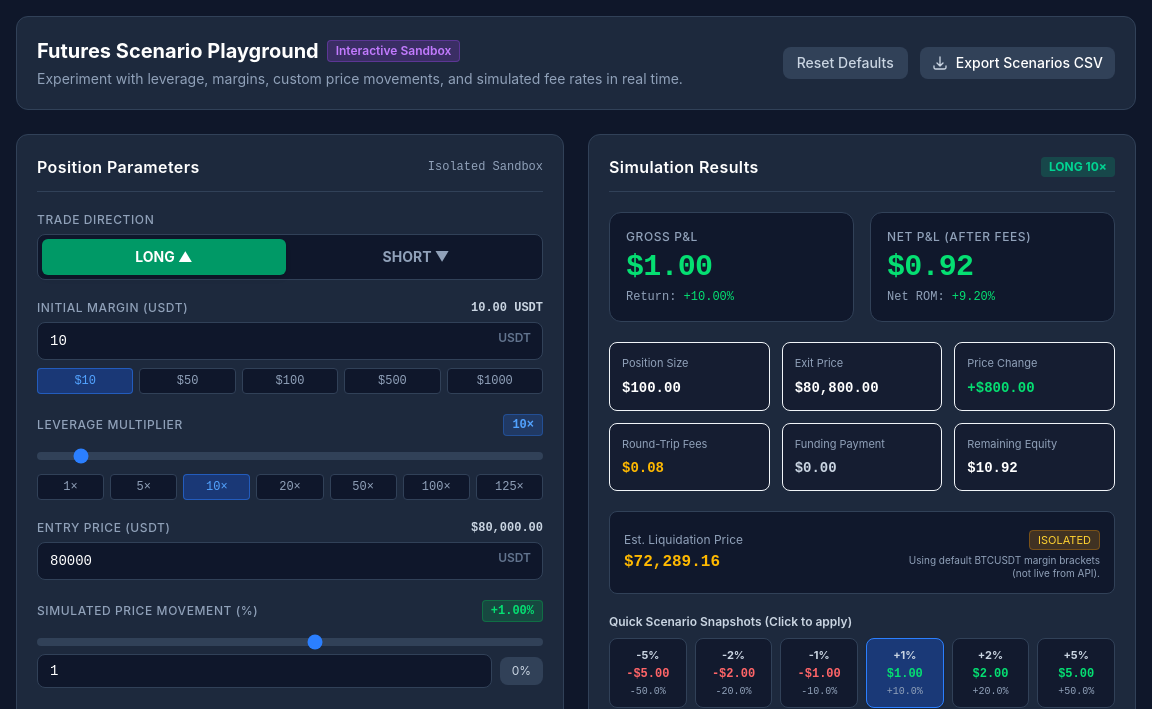
Test: ScenarioPlayground › resets inputs to defaults when Reset Defaults is clicked
The width and height of the screenshot is (1152, 709).
// Change margin to 50 using exact button text
Click the button "$50" at (188, 381), box [139,368,236,394]
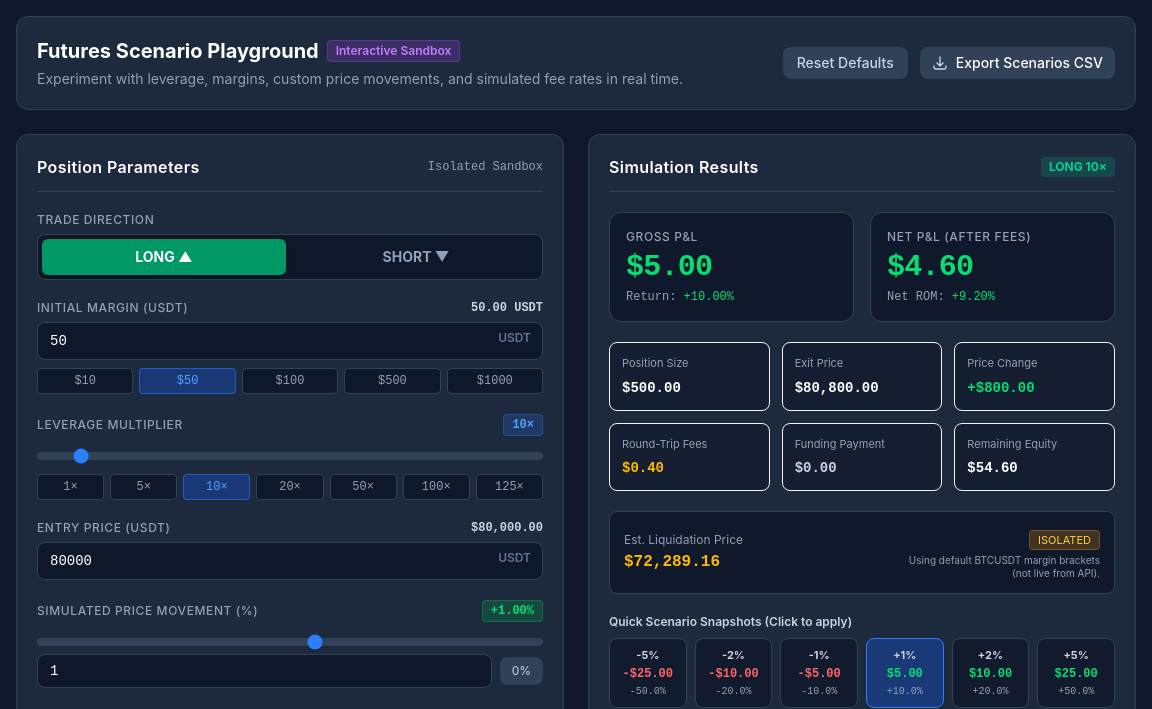
Now the text "$500.00" is shown, box [622,380,681,396]
// Click Reset Defaults
Click the button "Reset Defaults" at (845, 63), box [783,47,908,79]
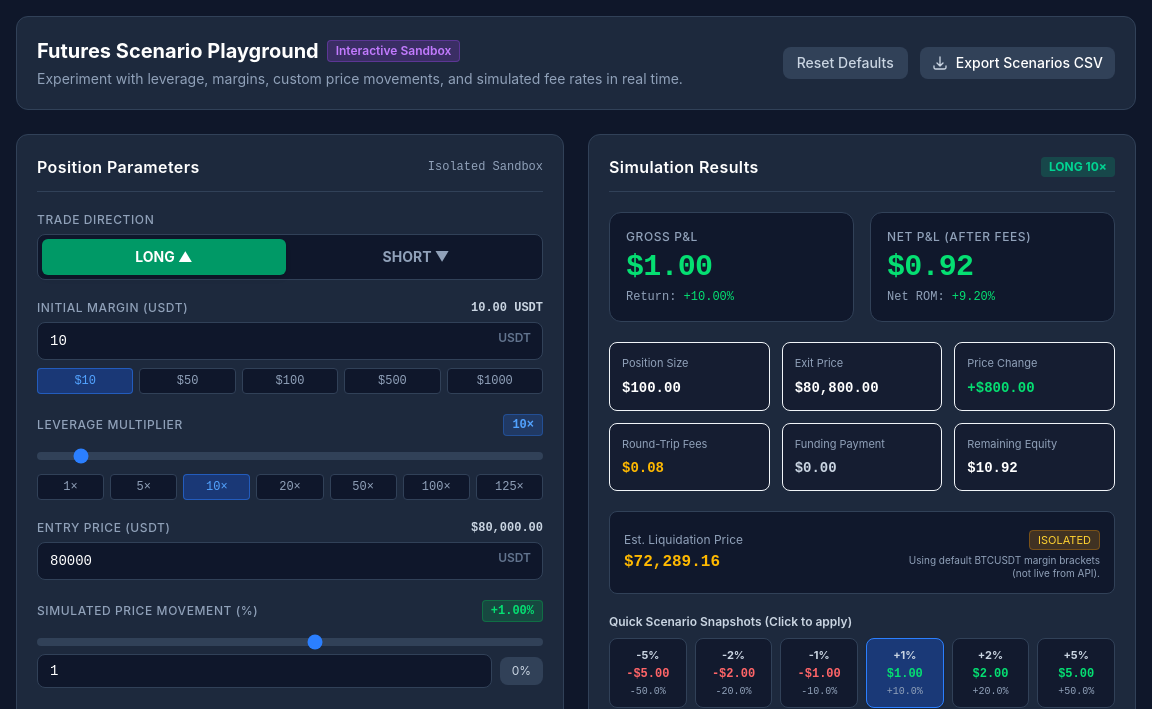
Now the text "$100.00" is shown, box [622,380,681,396]
